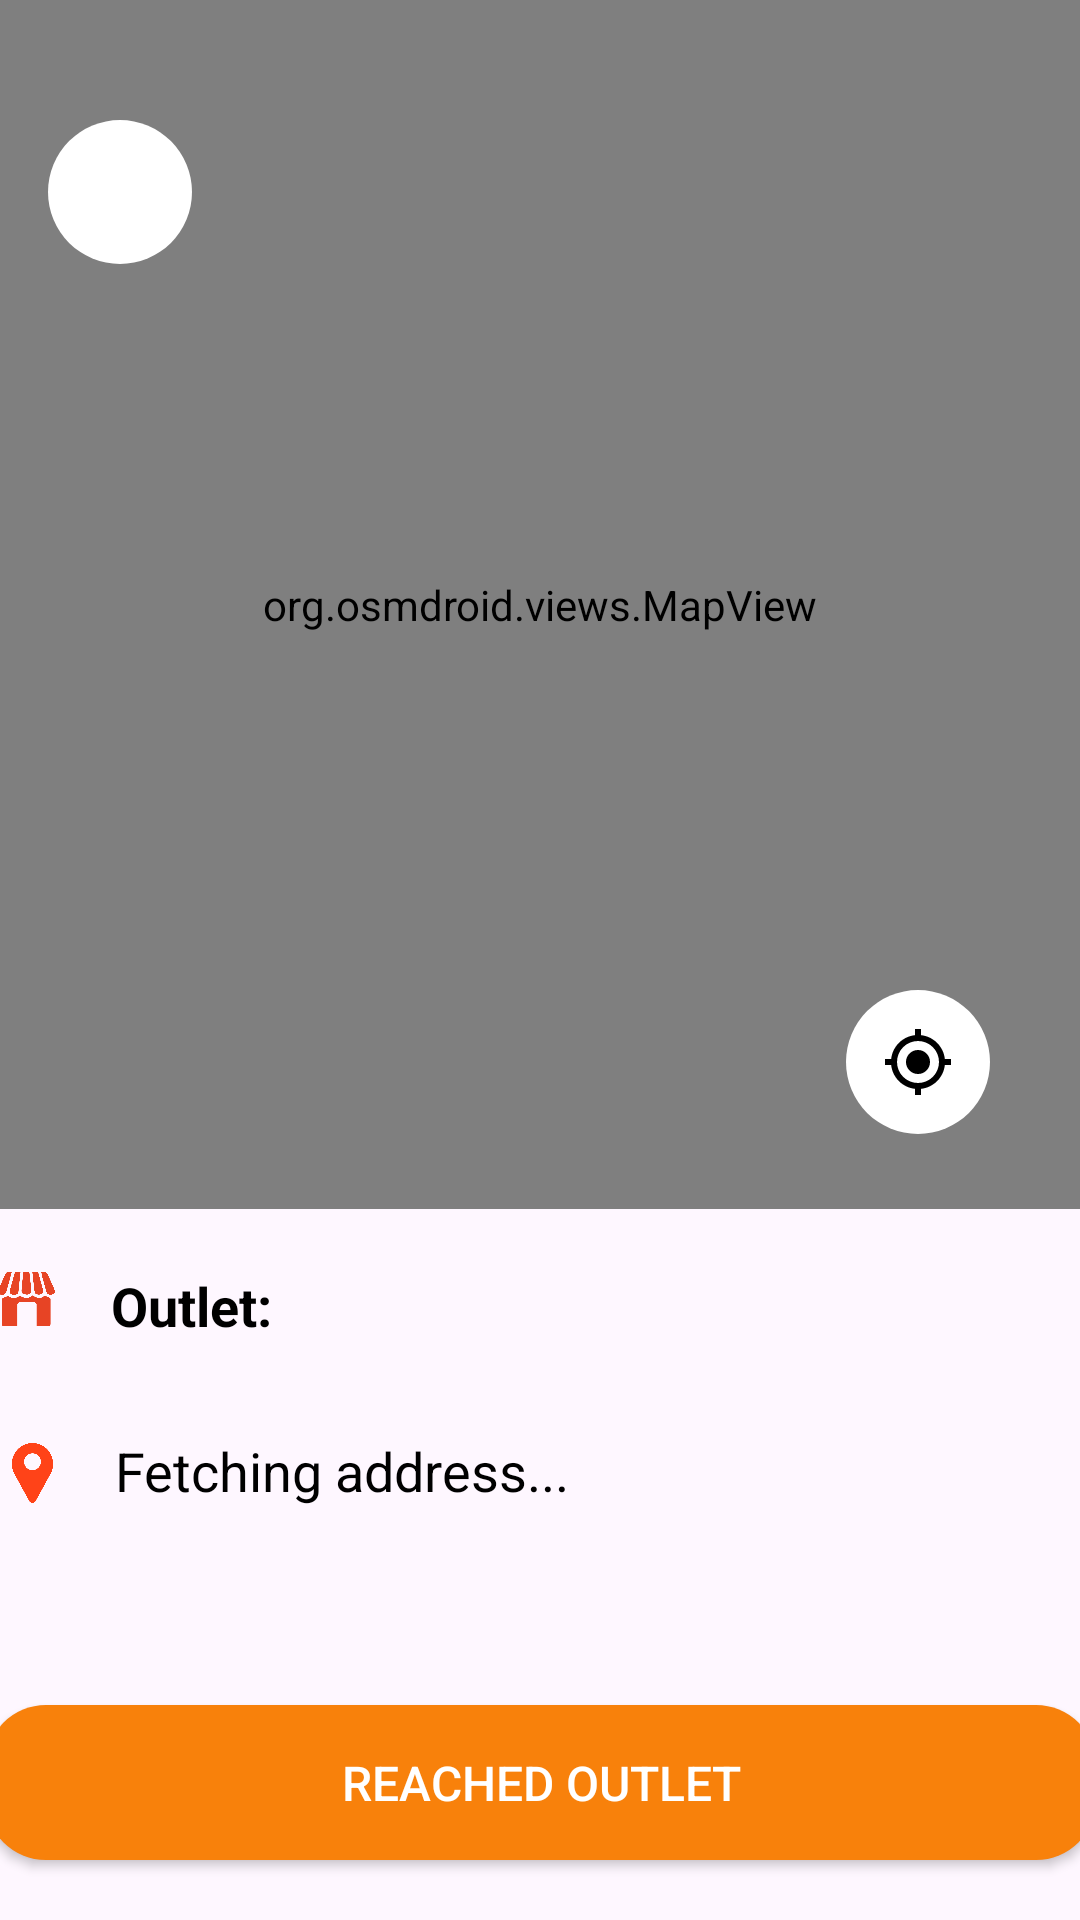

Screen size 1080px×1920px. Icon name, then its center in pixels as point (x, y):
crosshairs gps: point (918, 1062)
